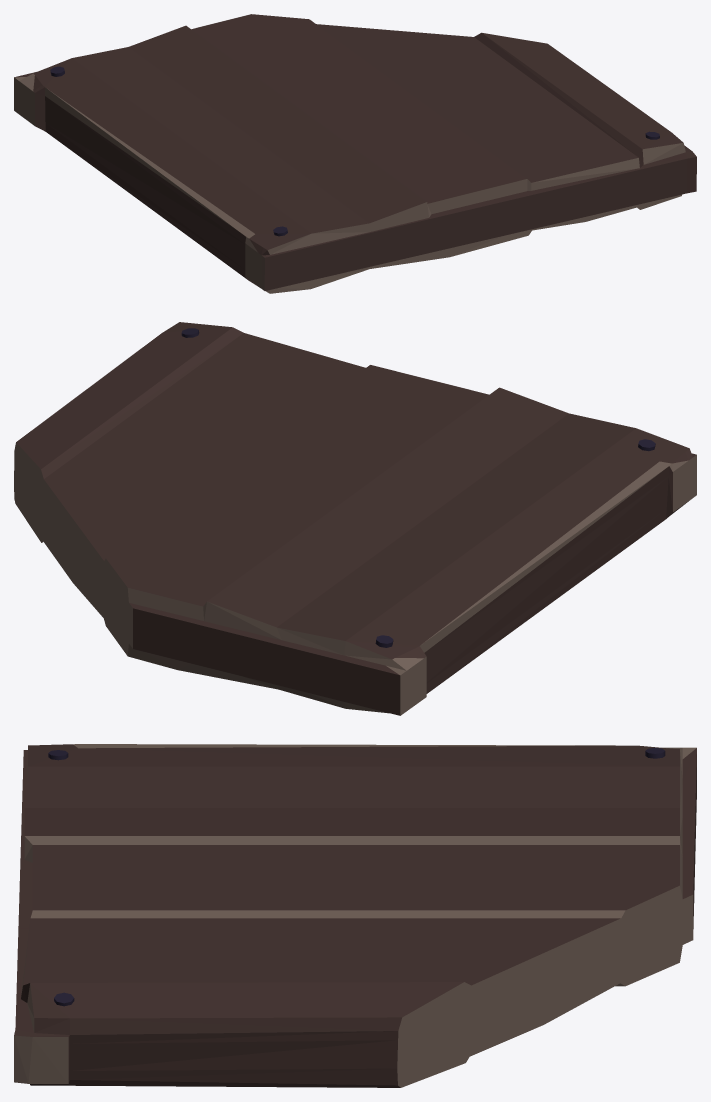
The model's file is MCastle_Floorboards_02.FBX.
3 renders of one model, top to bottom at view 1: azimuth 30°, elevation 25°; view 2: azimuth 150°, elevation 25°; view 3: azimuth 270°, elevation 25°, orthographic. The views are drawn at different scales.
Visible parts, largest first — view 1: MCastle_Floorboards_02_LOD0; view 2: MCastle_Floorboards_02_LOD0; view 3: MCastle_Floorboards_02_LOD0.
Part boxes in pixels (x1,y1,x2,y2): MCastle_Floorboards_02_LOD0: (14, 14, 696, 293); MCastle_Floorboards_02_LOD0: (14, 322, 696, 715); MCastle_Floorboards_02_LOD0: (14, 744, 696, 1087).
Size of what is drawn, in the model's own units: 4.11 by 0.5649 by 4.12.
